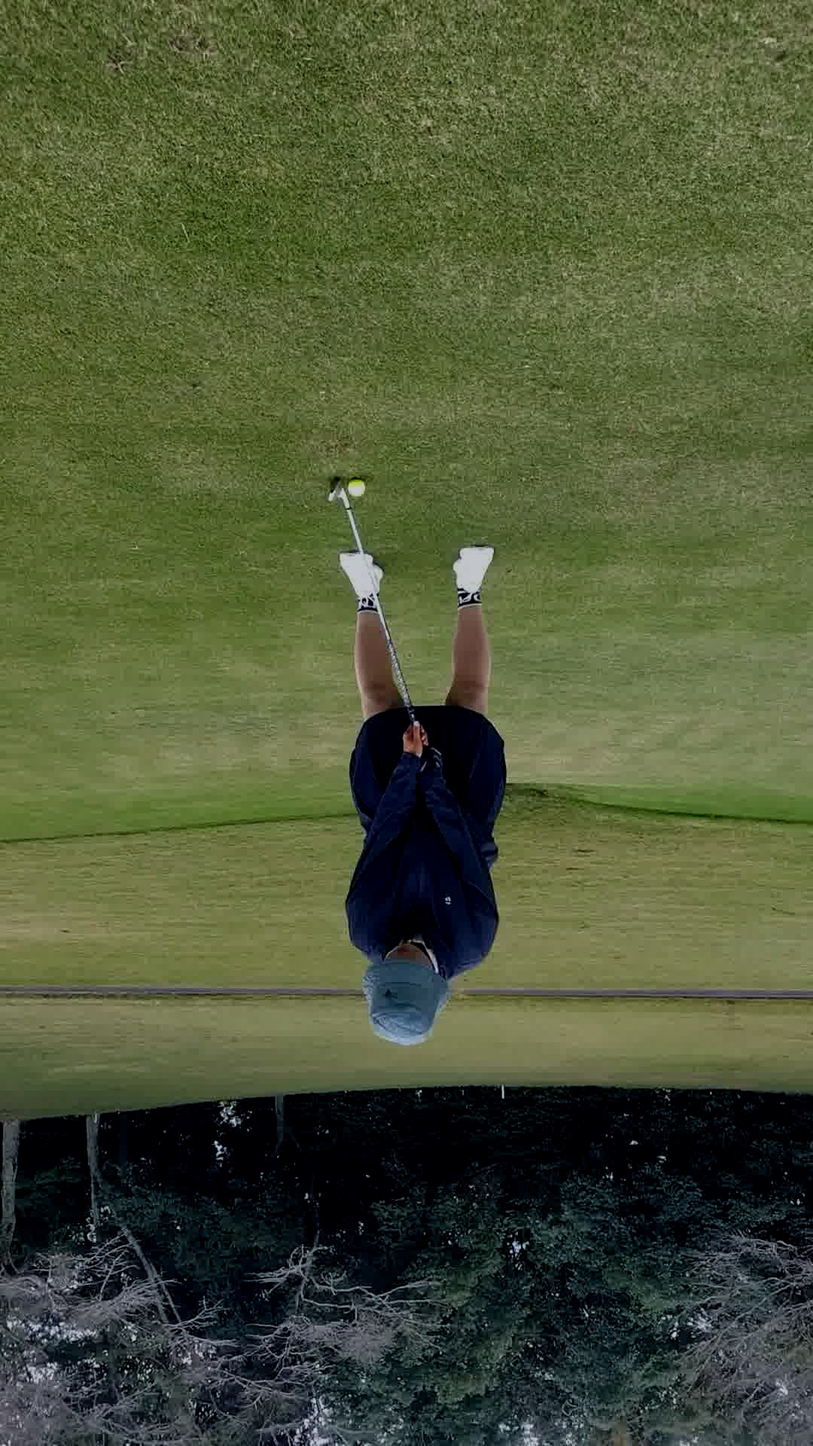clubhead: (213, 430, 436, 545)
